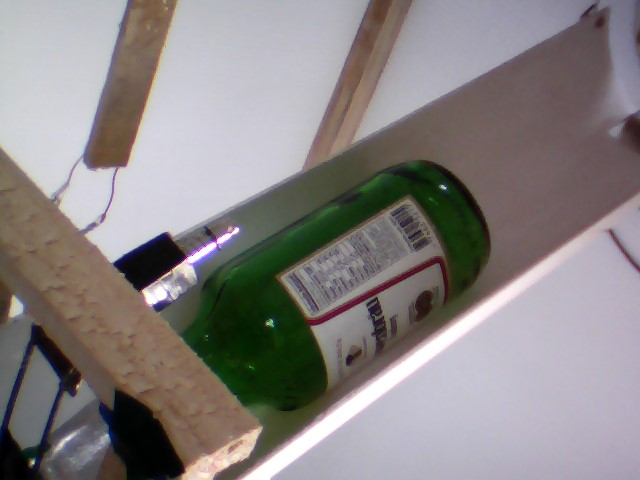vidrio: (172, 154, 497, 422)
